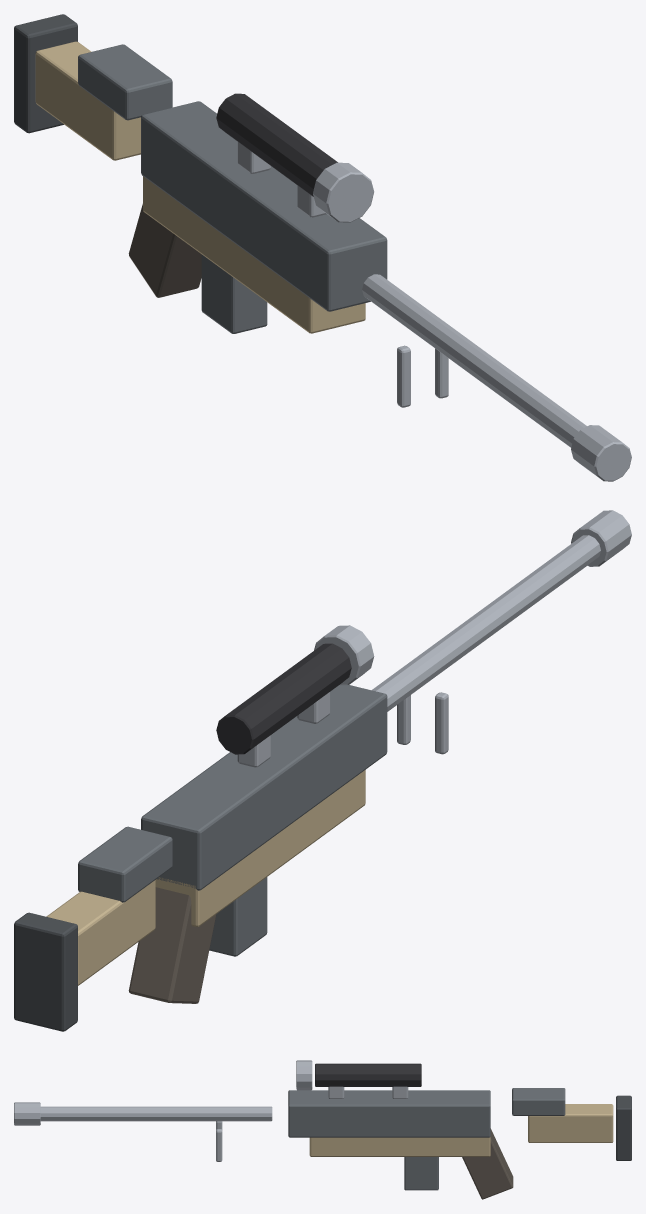
Rendered from dmr.glb.
The picture shows the model from 3 angles, top to bottom: view 1: azimuth 30°, elevation 25°; view 2: azimuth 150°, elevation 25°; view 3: azimuth 270°, elevation 25°; orthographic projection. The views are drawn at different scales.
Visible parts, largest first — view 1: Chassis, Barrel, Lower, Stock, Scope, Cheek, Grip, Butt, Mag, ScopeObj, Brake, BipodL; view 2: Chassis, Barrel, Butt, Lower, Grip, Scope, Stock, Cheek, Mag, Brake, ScopeObj, BipodL; view 3: Chassis, Barrel, Lower, Stock, Scope, Grip, Cheek, Mag, Butt, Brake, ScopeObj, BipodR.
Boxes of the visible parts, <box> form: Chassis: <box>141,101,387,311</box>; Barrel: <box>362,274,586,447</box>; Lower: <box>143,176,365,333</box>; Stock: <box>35,41,140,160</box>; Scope: <box>216,93,337,196</box>; Cheek: <box>78,44,172,120</box>; Grip: <box>128,204,201,297</box>; Butt: <box>14,14,77,133</box>; Mag: <box>201,254,267,333</box>; ScopeObj: <box>313,162,374,222</box>; Brake: <box>571,425,631,481</box>; BipodL: <box>397,345,410,407</box>; Chassis: <box>141,685,387,890</box>; Barrel: <box>372,535,600,711</box>; Butt: <box>14,912,77,1031</box>; Lower: <box>155,770,365,926</box>; Grip: <box>128,887,216,1003</box>; Scope: <box>216,643,351,754</box>; Stock: <box>46,880,155,985</box>; Cheek: <box>78,826,172,902</box>; Mag: <box>209,877,267,956</box>; Brake: <box>571,510,631,566</box>; ScopeObj: <box>314,625,374,685</box>; BipodL: <box>435,692,448,754</box>; Chassis: <box>288,1090,490,1137</box>; Barrel: <box>40,1106,272,1121</box>; Lower: <box>309,1137,490,1156</box>; Stock: <box>528,1104,613,1142</box>; Scope: <box>315,1063,421,1086</box>; Grip: <box>462,1128,513,1199</box>; Cheek: <box>512,1088,565,1115</box>; Mag: <box>404,1157,438,1190</box>; Butt: <box>616,1095,631,1160</box>; Brake: <box>14,1102,40,1125</box>; ScopeObj: <box>296,1060,312,1090</box>; BipodR: <box>216,1129,222,1161</box>.
Bounding box in the file's own units: 0.07 × 0.2748 × 1.16.
